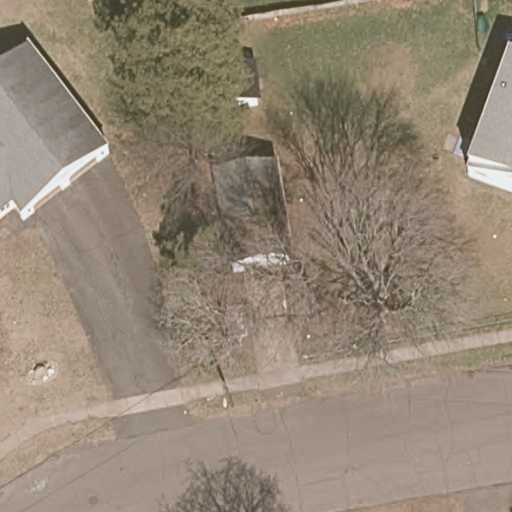DT: (211, 360, 234, 409)
